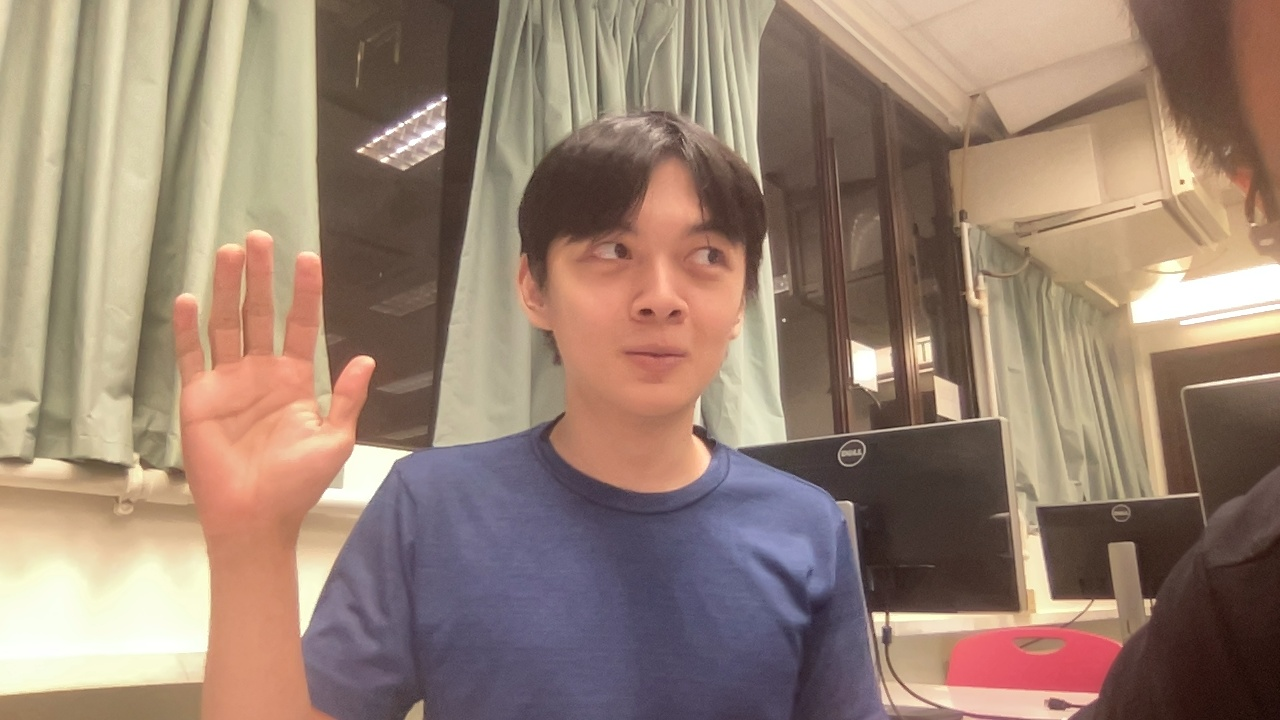hello: (142, 224, 402, 521)
